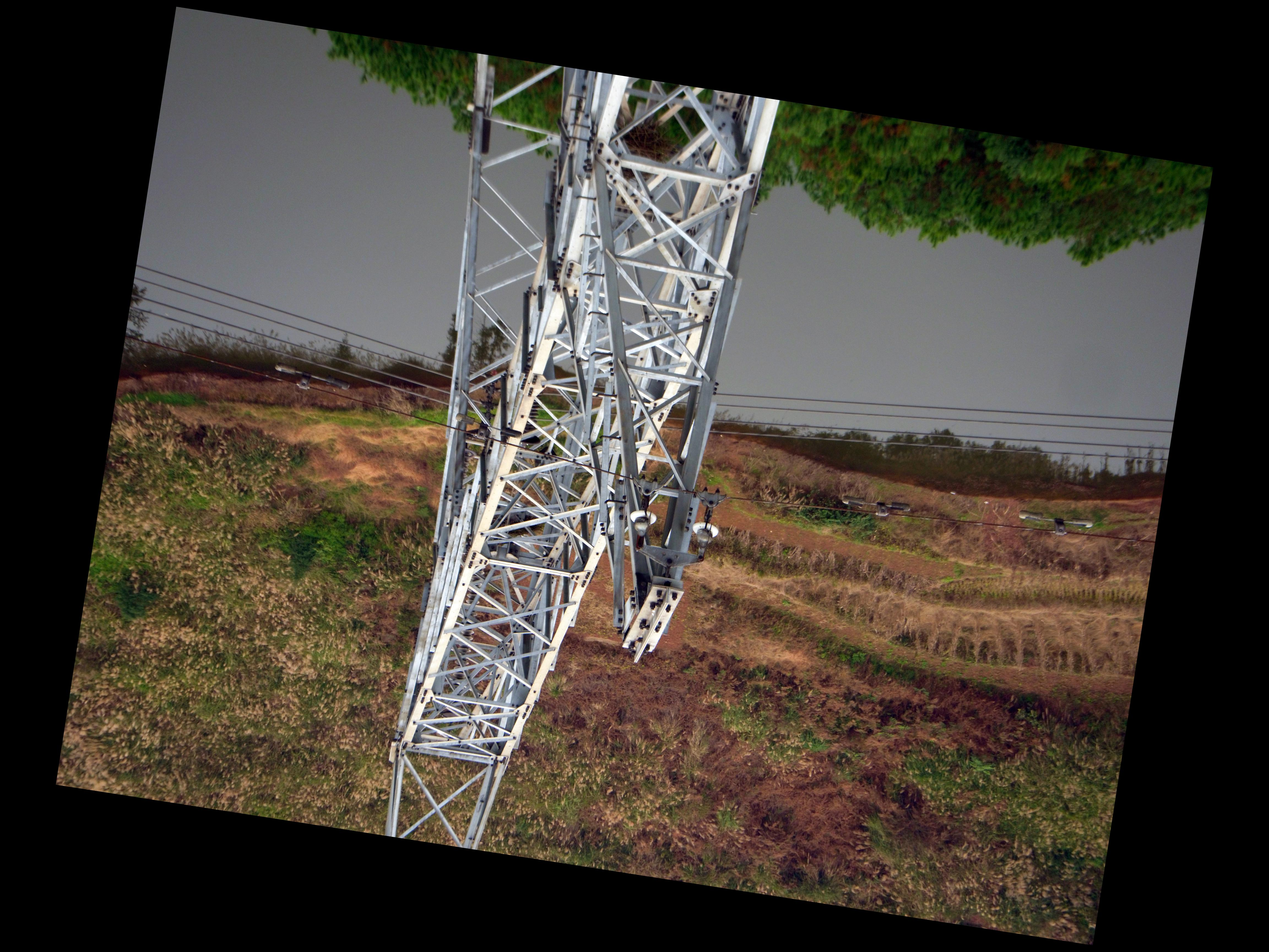damper: (269, 360, 354, 399), (1013, 506, 1097, 542), (451, 411, 526, 447), (838, 491, 913, 523)
